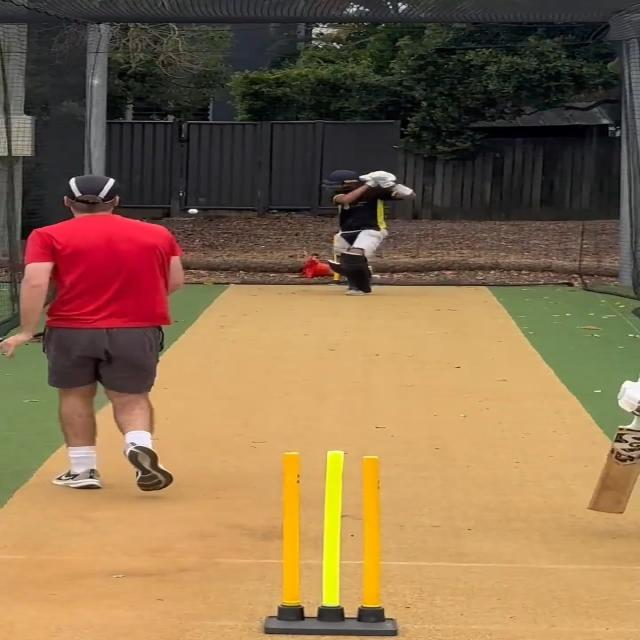ball: (187, 208, 199, 215)
stump: (260, 449, 398, 636)
